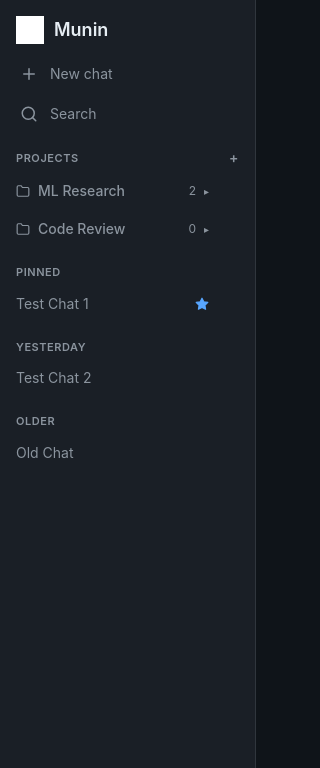
Sidebar data loading › loads a project's chats when it is expanded
This screenshot has width=320, height=768.
Expected: the text "Filed Chat" is not shown
Click the text "ML Research": click(82, 190) x1=38 y1=182 x2=125 y2=199
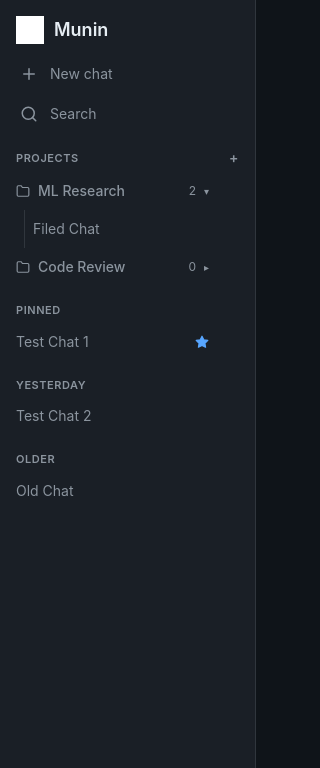
Expected: the link "Filed Chat" is shown, x1=33 y1=220 x2=100 y2=237
